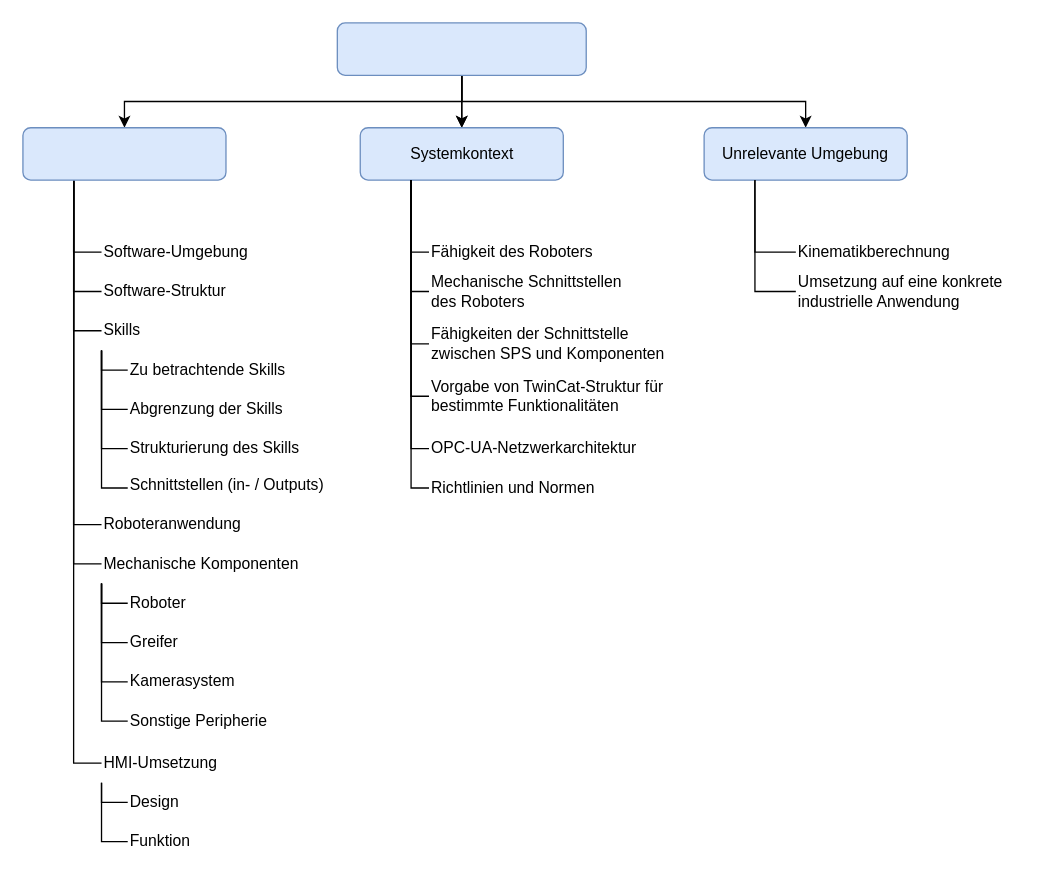
Some shapes in this 1055 by 884 pixel diagram are drawn without their labels. Here are the shapes that lost their labels. From the top down, the box of each, then its label:
(336, 22, 586, 75): System- und Kontextgrenze
(22, 126, 226, 180): System
